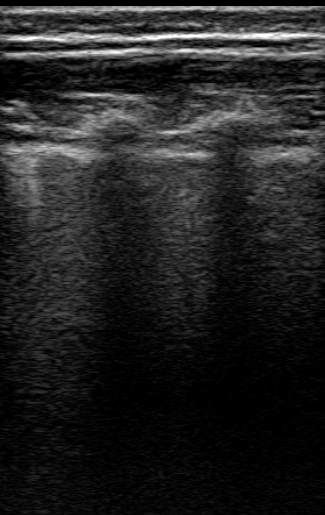irrelevant: (1, 1, 325, 64)
